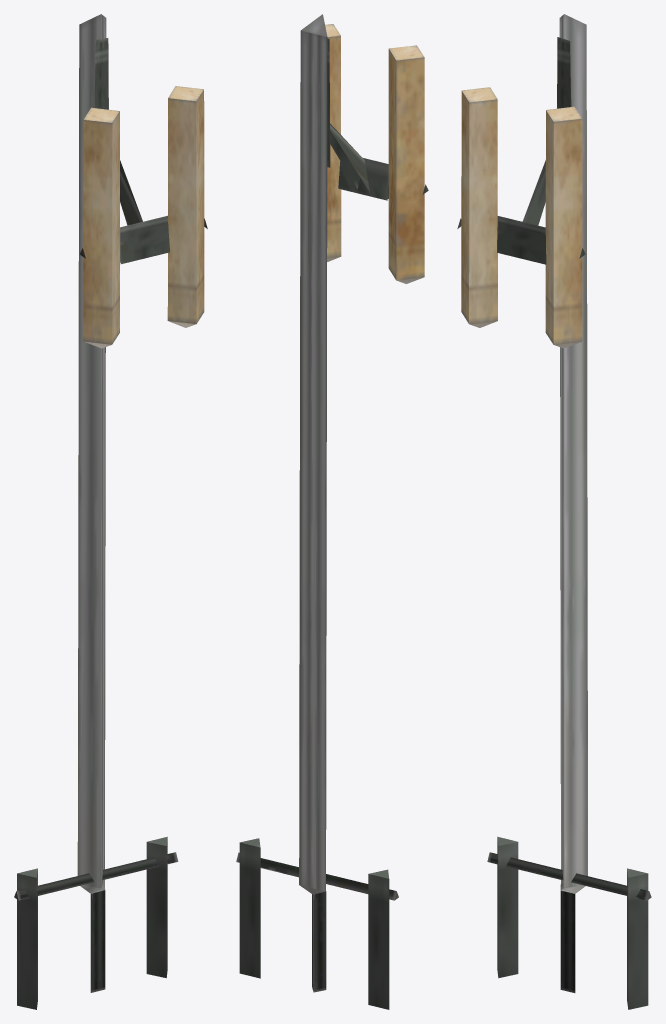
File: frn_all_streetlamp_lg_s1_l2.fbx
The picture shows the model from 3 angles, left to right: view 1: azimuth 30°, elevation 25°; view 2: azimuth 150°, elevation 25°; view 3: azimuth 330°, elevation 25°; orthographic projection.
Parts seen in each view (by area): view 1: mesh_node; view 2: mesh_node; view 3: mesh_node.
Boxes of the visible parts, x1=… form: mesh_node: x1=14, y1=14, x2=207, y2=1009; mesh_node: x1=236, y1=14, x2=428, y2=1009; mesh_node: x1=457, y1=14, x2=651, y2=1009.
Size of the model in its own units: 0.6918 by 4.06 by 0.4741.
